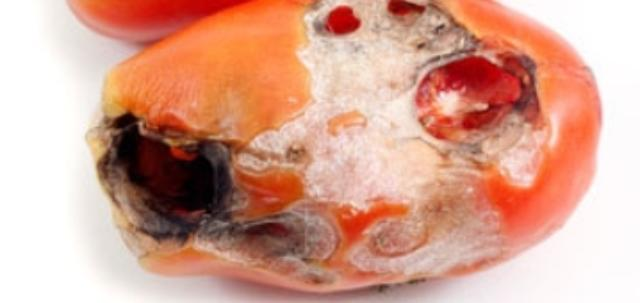defect: (73, 8, 612, 293)
